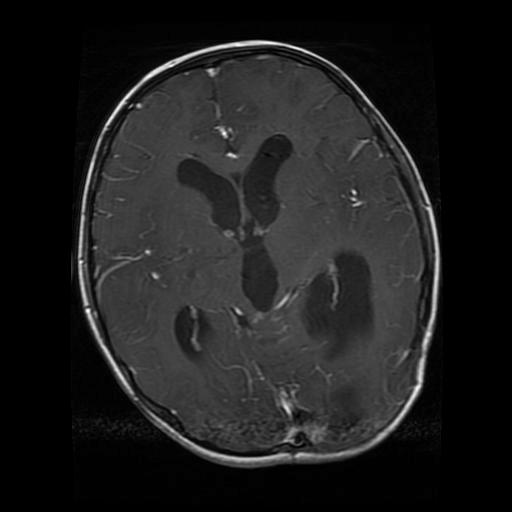Tumour-Glioma: (288, 382, 399, 456)
